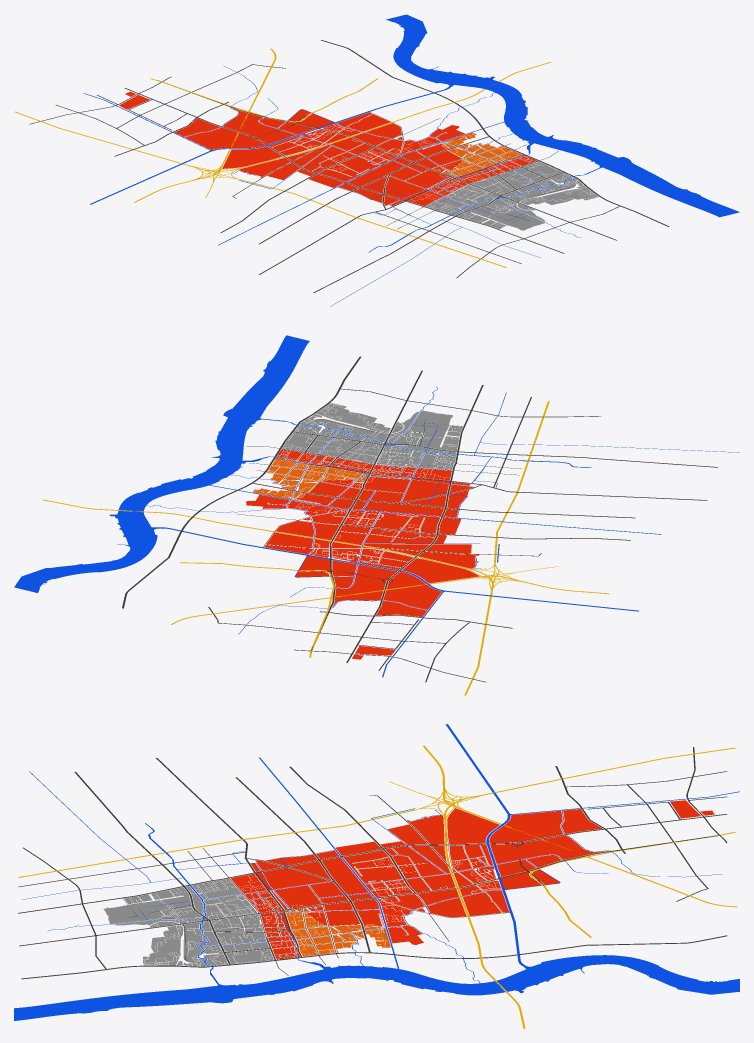
3 renders of one model, top to bottom at view 1: azimuth 30°, elevation 25°; view 2: azimuth 150°, elevation 25°; view 3: azimuth 270°, elevation 25°, orthographic. The views are drawn at different scales.
Visible parts, largest first — view 1: aera, river, road, highway, 54-1; view 2: aera, river, road, highway, 54-1; view 3: aera, river, road, highway, 54-1, 53-11.
Part boxes in pixels (x1,y1,x2,y2): aera: (119, 91, 598, 210); river: (83, 14, 739, 306); road: (29, 40, 669, 292); highway: (14, 48, 551, 267); 54-1: (488, 206, 544, 230); aera: (245, 403, 479, 659); river: (14, 335, 739, 677); road: (122, 356, 717, 682); highway: (42, 401, 609, 695); 54-1: (403, 410, 452, 437); aera: (144, 800, 714, 965); river: (14, 724, 739, 1020); road: (18, 747, 727, 979); highway: (18, 745, 737, 1028); 54-1: (103, 900, 178, 923); 53-11: (143, 937, 180, 964).
Bounding box in the file's own units: 140 × 5.66e-05 × 141.
